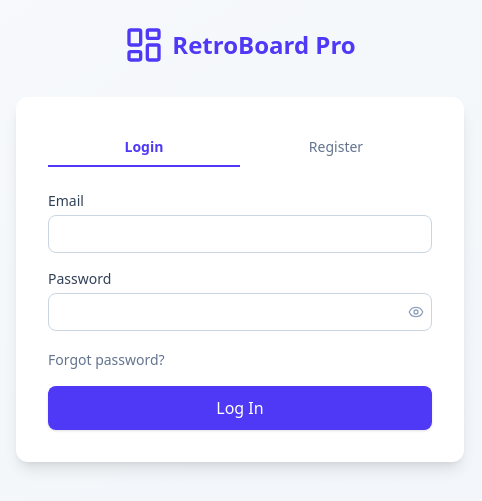
Test: LoginPage › should show validation error for invalid email
In the field labelled "Email": (240,234) [48, 214, 432, 252], type "not-an-email"
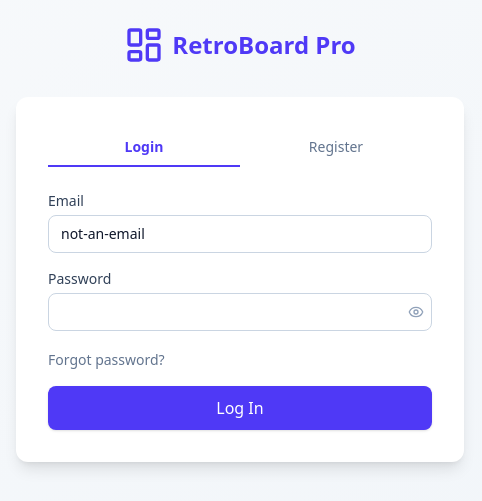
In the password field labelled "Password": (240,312) [48, 292, 432, 330], type "test123"
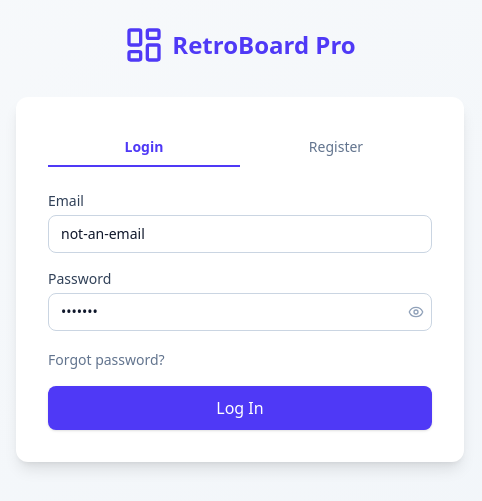
Submit the form, box [48, 190, 432, 430]
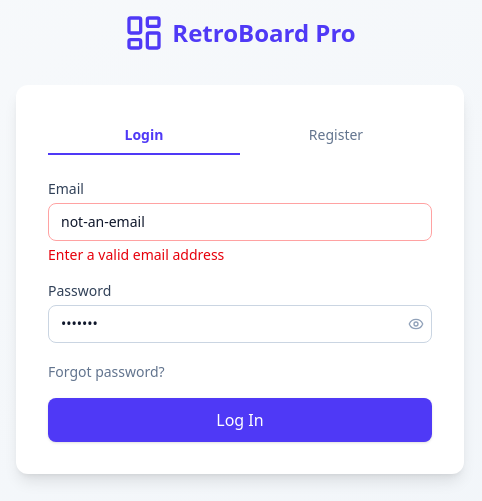
Check: the text "Enter a valid email address" is shown, box [48, 244, 224, 264]
